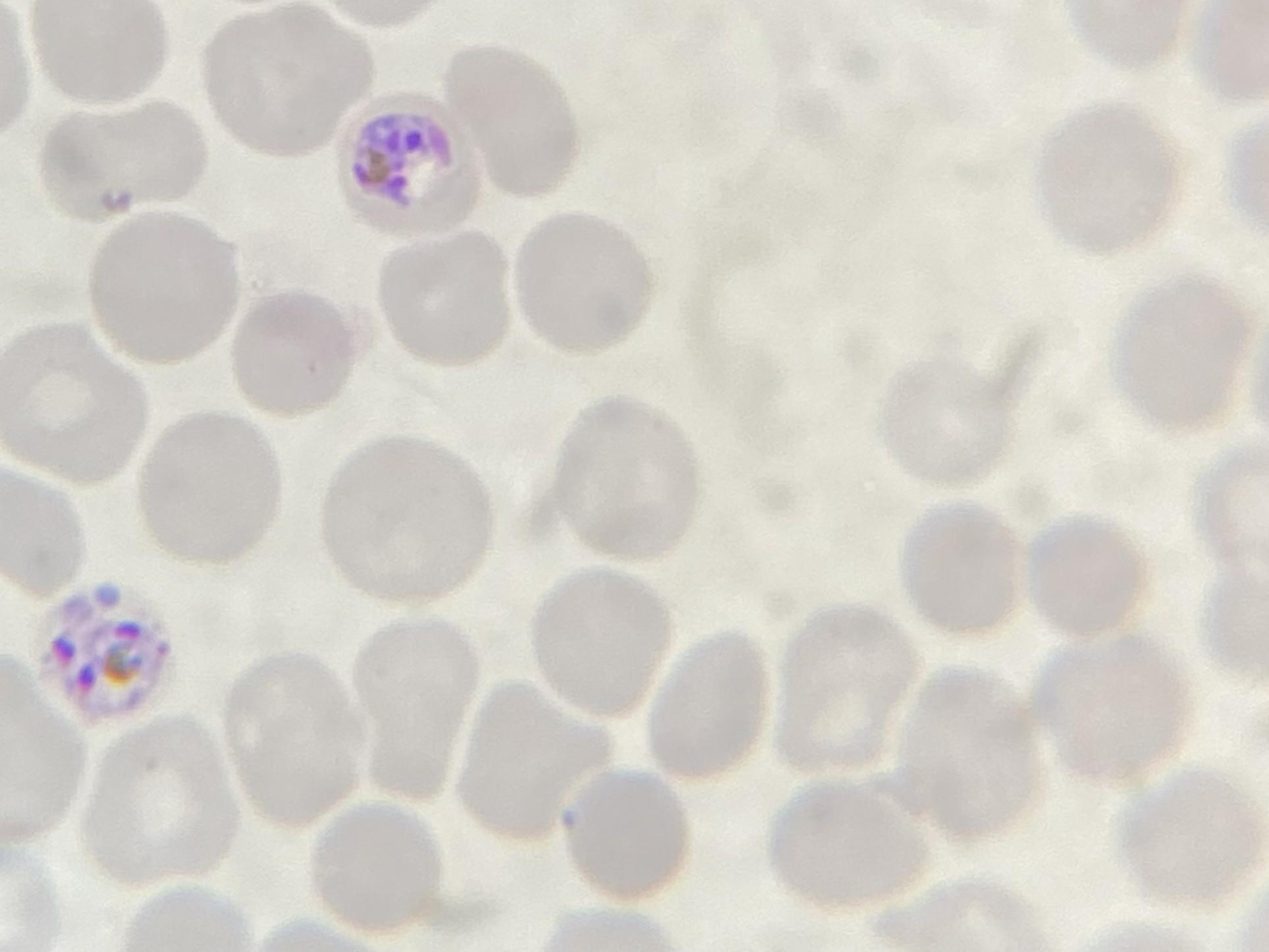Infected: (327, 84, 476, 240), (33, 576, 170, 731)
Uninfected: (882, 660, 1051, 844), (320, 438, 495, 611), (198, 7, 372, 164), (1030, 631, 1193, 793), (83, 717, 236, 889), (775, 605, 921, 784), (226, 653, 372, 828), (90, 207, 241, 375), (454, 679, 615, 835), (1113, 758, 1267, 917), (0, 324, 147, 489), (1104, 266, 1242, 438), (562, 394, 700, 566), (351, 620, 479, 798), (446, 36, 583, 199), (527, 563, 670, 716), (764, 778, 930, 907), (1038, 104, 1180, 254), (143, 414, 282, 567), (42, 100, 203, 229), (514, 209, 649, 356), (310, 800, 444, 932), (378, 227, 507, 363), (878, 354, 1003, 494), (648, 627, 763, 778), (555, 767, 686, 898), (220, 291, 352, 421), (902, 499, 1018, 631), (1016, 517, 1145, 634), (33, 0, 172, 103)
